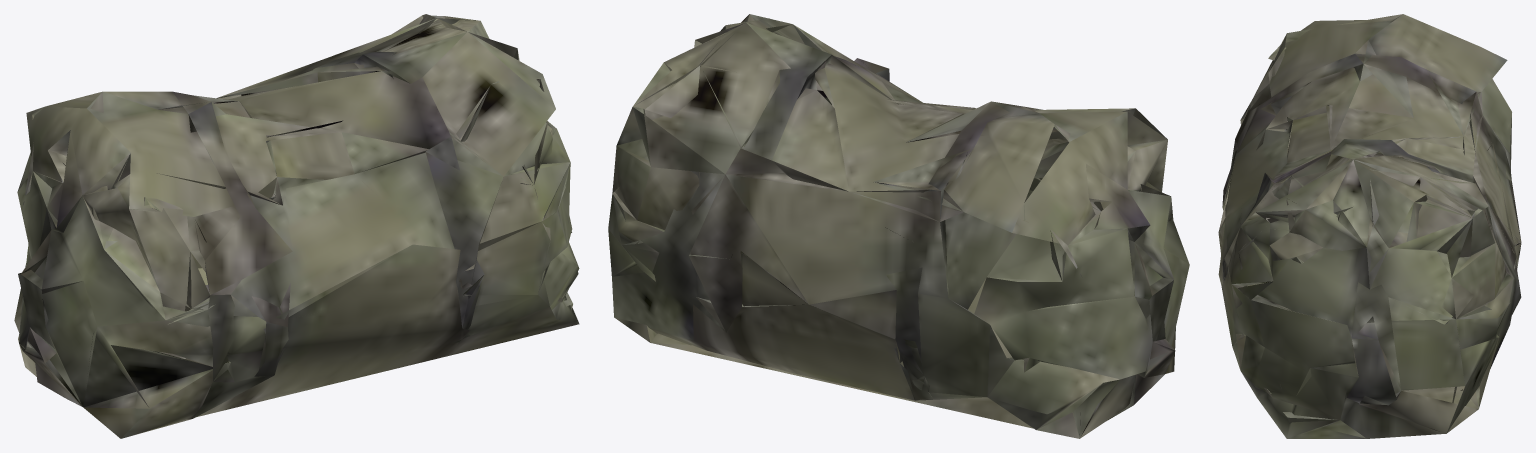
File: sandbags_1617038676_lod0m.glb
3 renders of one model, left to right at view 1: azimuth 30°, elevation 25°; view 2: azimuth 150°, elevation 25°; view 3: azimuth 270°, elevation 25°, orthographic. The views are drawn at different scales.
Size of the model in its own units: 2.58 by 1.39 by 1.46.
1 material, 1 textured.
